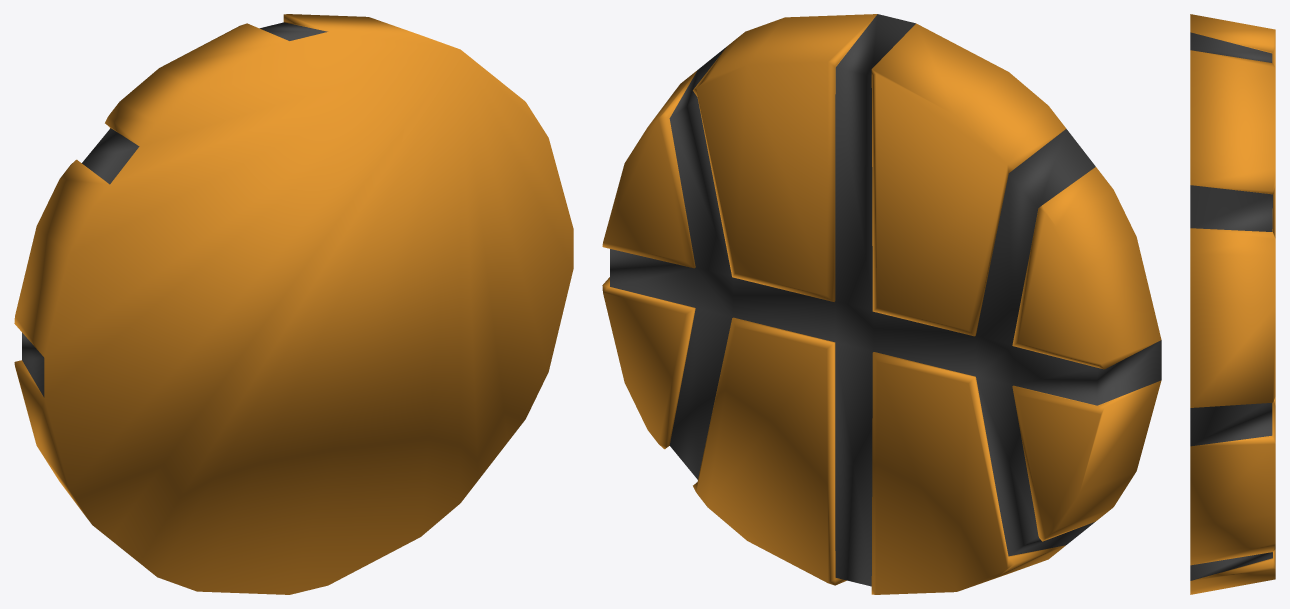
File: BasketBallIcon.fbx
3 renders of one model, left to right at view 1: azimuth 30°, elevation 25°; view 2: azimuth 150°, elevation 25°; view 3: azimuth 270°, elevation 25°, orthographic. The views are drawn at different scales.
Parts seen in each view (by area): view 1: BasketBallIcon; view 2: BasketBallIcon; view 3: BasketBallIcon.
Boxes of the visible parts, x1,y1,x2,y2 form: BasketBallIcon: (14, 14, 573, 594); BasketBallIcon: (602, 14, 1161, 594); BasketBallIcon: (1190, 14, 1275, 594).
Bounding box in the file's own units: 304 × 304 × 44.8.
